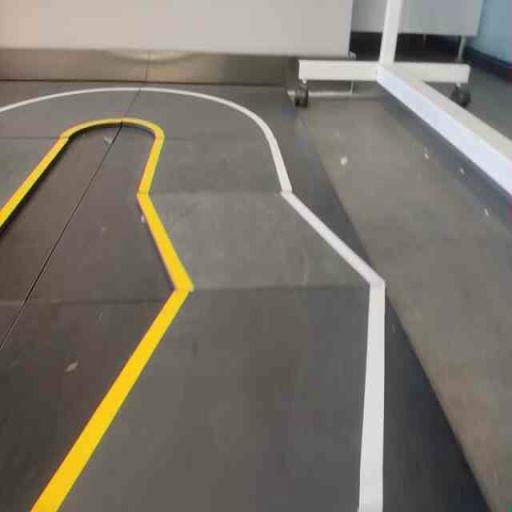crossright: (23, 280, 393, 511)
